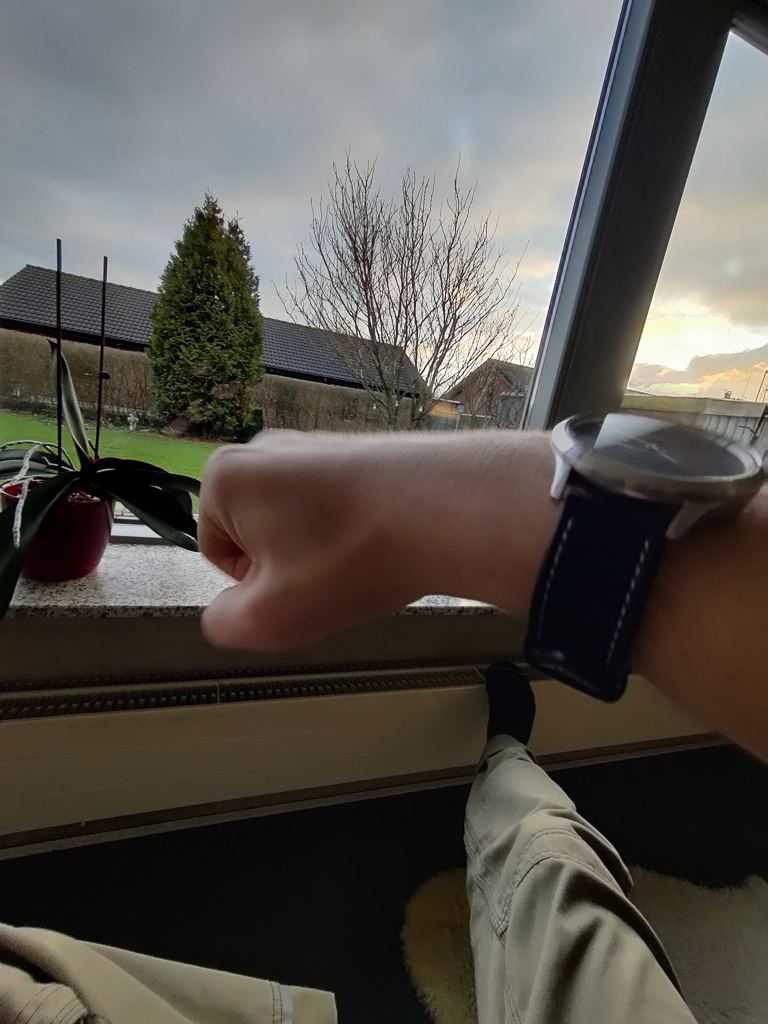Eagle: (124, 411, 141, 433)
Humanoid: (0, 393, 768, 1024)
